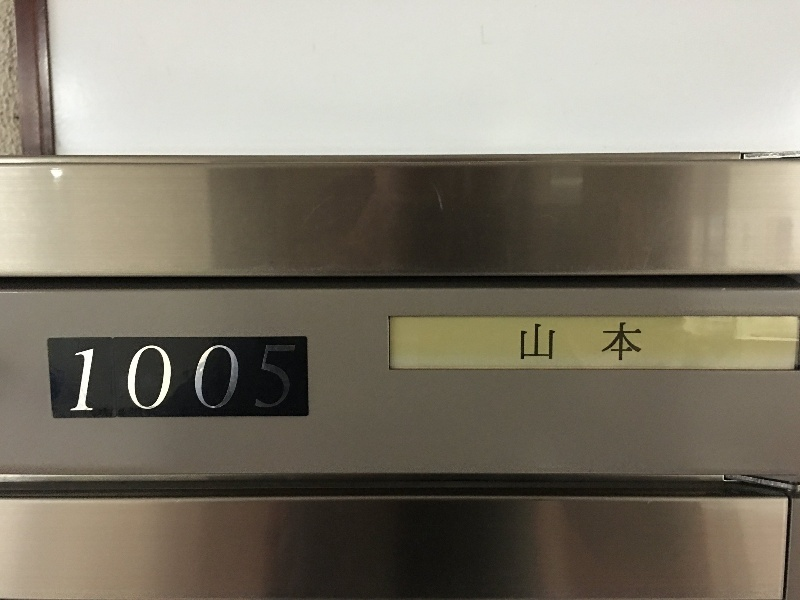text: (81, 345, 96, 412), (97, 345, 112, 412), (113, 345, 128, 412), (129, 345, 144, 412), (145, 345, 160, 412), (161, 345, 176, 412), (177, 345, 192, 412), (193, 345, 208, 412), (209, 345, 224, 412), (225, 345, 240, 412), (241, 345, 256, 412), (257, 345, 272, 412), (273, 345, 288, 412), (289, 345, 298, 412), (529, 322, 544, 361), (545, 322, 560, 361), (561, 322, 576, 361), (577, 322, 592, 361), (593, 322, 608, 361), (609, 322, 624, 361), (625, 322, 640, 361), (521, 322, 528, 361), (76, 345, 80, 412), (641, 322, 642, 361)
